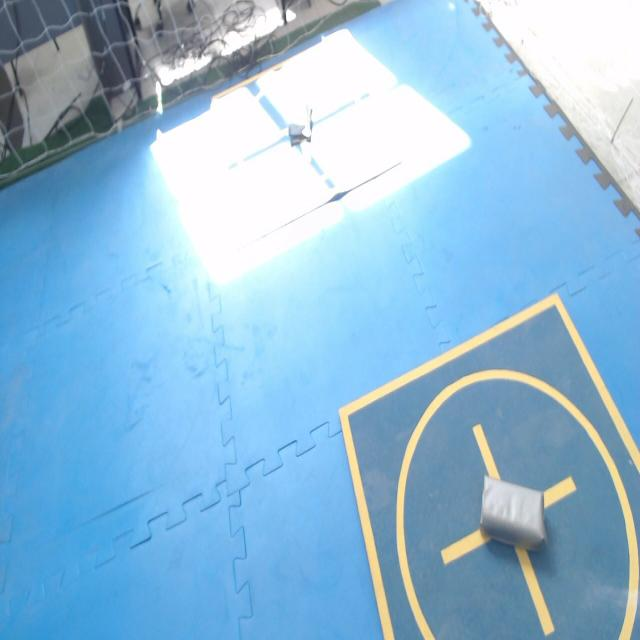esquerda: (480, 476, 546, 549)
vertical: (288, 99, 312, 145)
